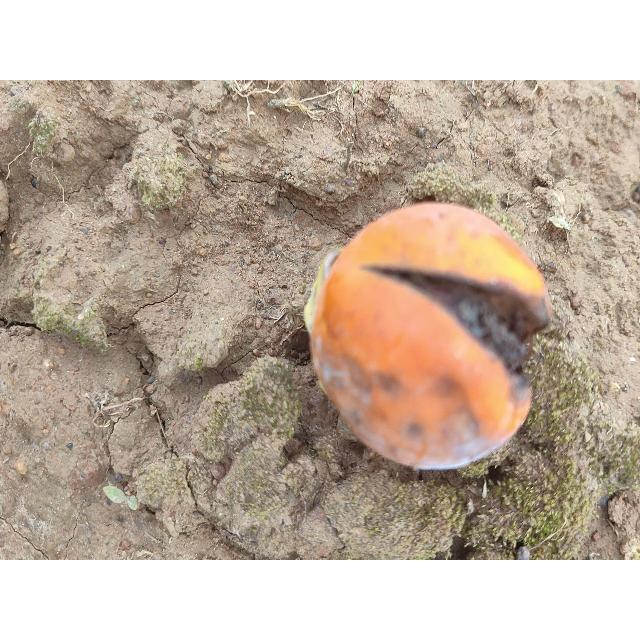damaged: (303, 203, 551, 472)
